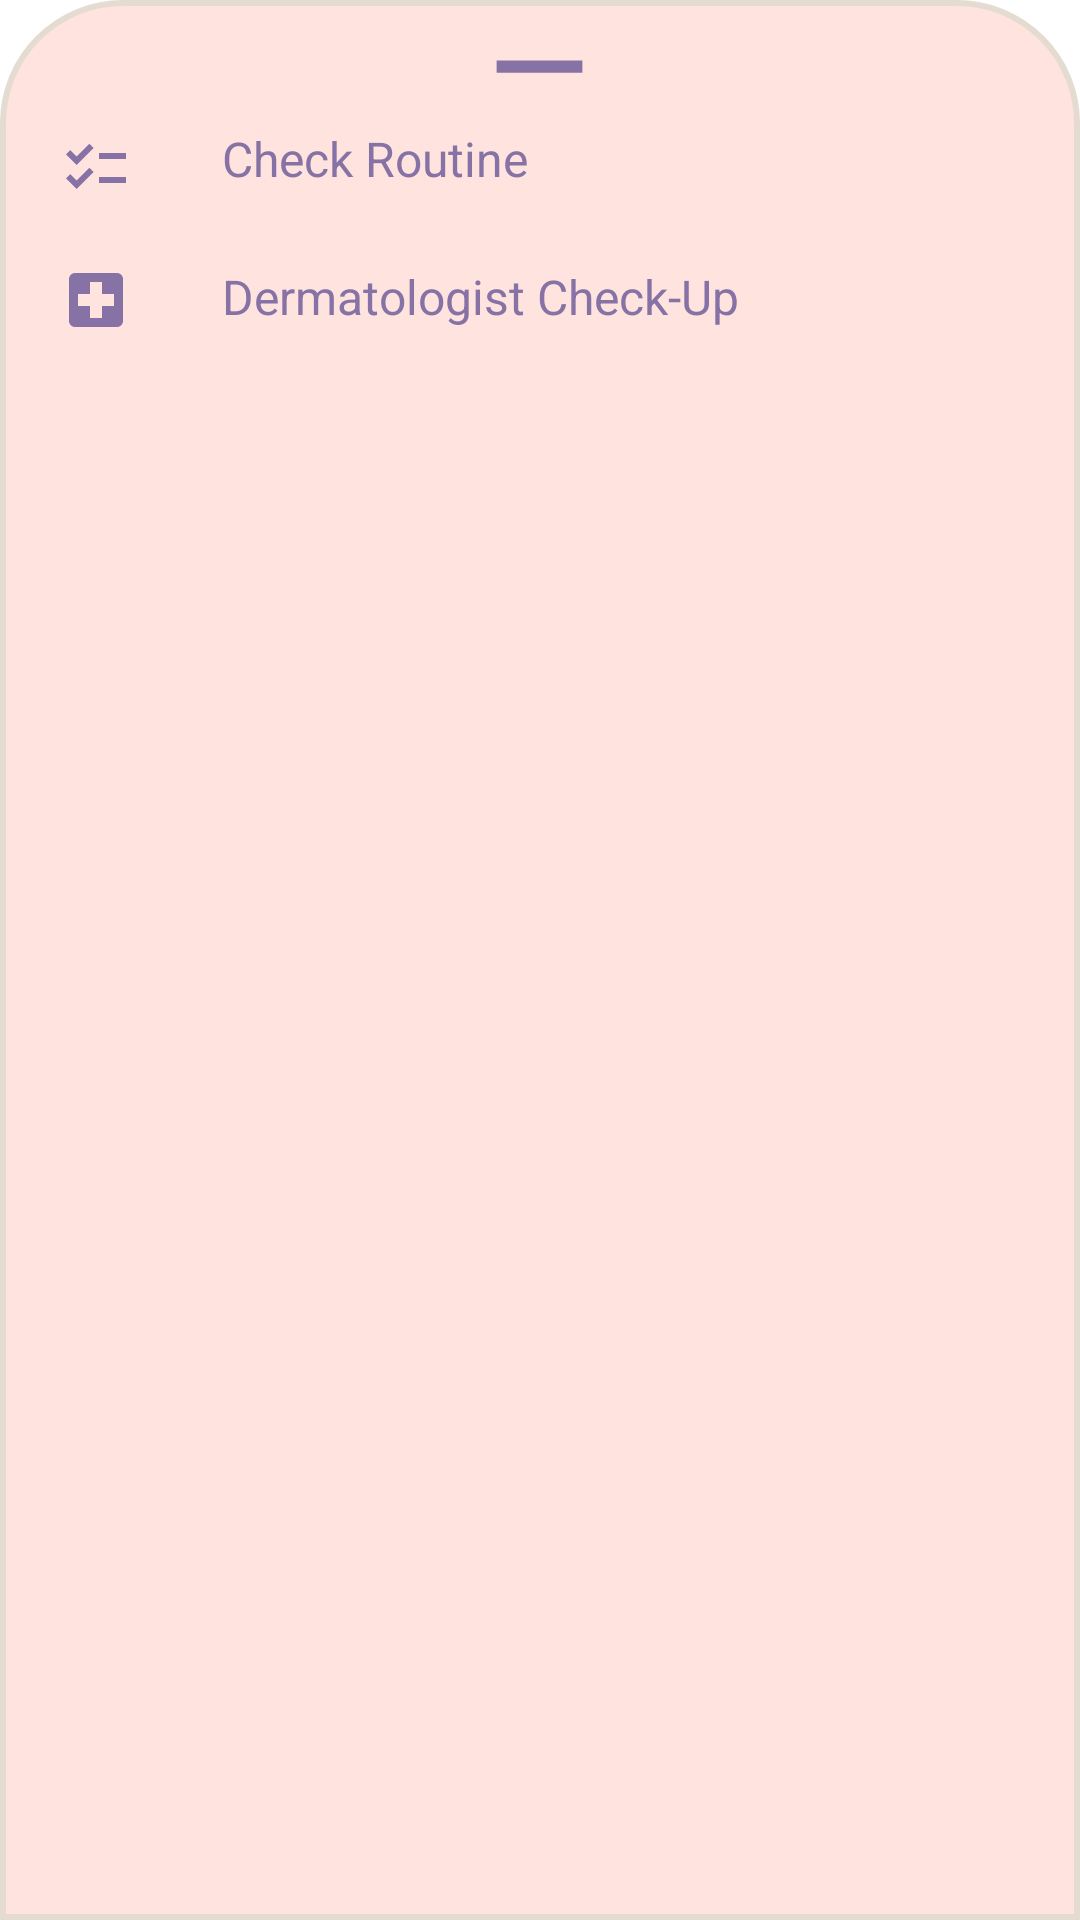

Locate icon controls on the screen. Image size 1080px×1920px, boxes as (x1, y1, x2, y2).
checklist: (66, 144, 126, 189)
local hospital: (69, 273, 123, 327)
